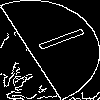I: (25, 25, 87, 58)
